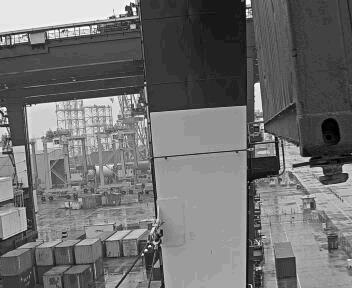twist_lock_1: (303, 156, 352, 189)
